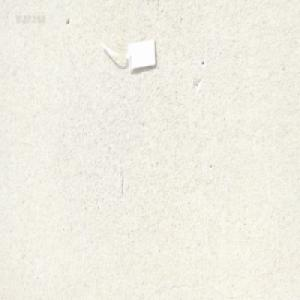LuggageTag: (99, 33, 158, 70)
